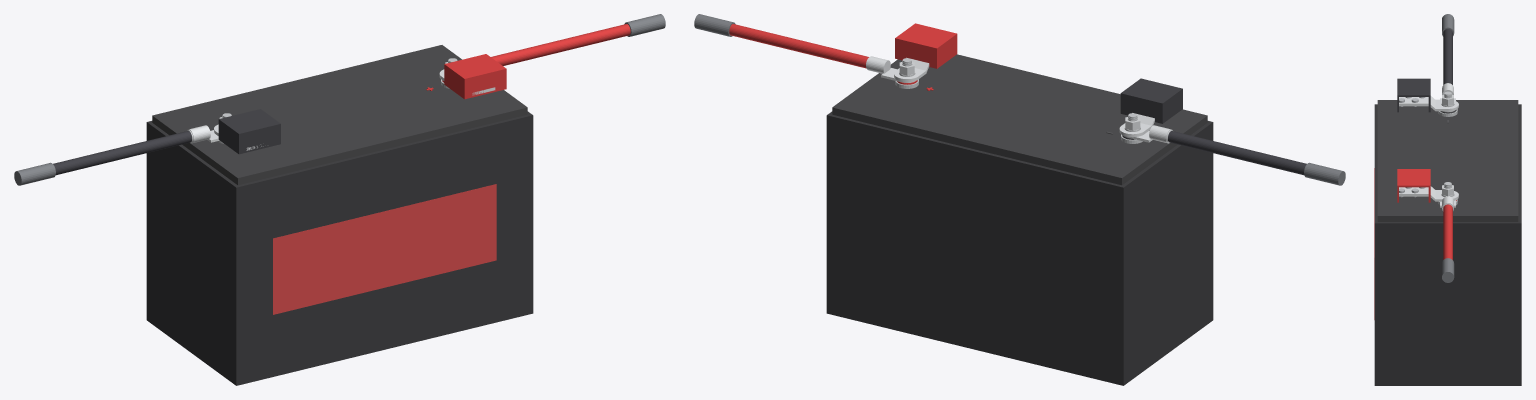
Rendered from odyssey-full-stack.glb.
3 views of the same model, side by side, from view 1: azimuth 30°, elevation 25°; view 2: azimuth 150°, elevation 25°; view 3: azimuth 270°, elevation 25° (orthographic). The views are drawn at different scales.
Parts seen in each view (by area): view 1: odyssey-odp-agm31/case, odyssey-odp-agm31/lid, odyssey-odp-agm31/label, blueseas-2340-neg/cover, blueseas-2340-pos/cover, lug-38-neg/cable_2awg, lug-38-pos/cable_2awg, lug-38-neg/joint_2awg, lug-38-pos/joint_2awg; view 2: odyssey-odp-agm31/case, odyssey-odp-agm31/lid, blueseas-2340-neg/cover, blueseas-2340-pos/cover, lug-38-pos/cable_2awg, lug-38-neg/cable_2awg, lug-38-neg/joint_2awg, lug-38-pos/joint_2awg; view 3: odyssey-odp-agm31/case, odyssey-odp-agm31/lid, blueseas-2340-neg/cover, blueseas-2340-pos/cover, lug-38-neg/cable_2awg, lug-38-pos/cable_2awg, blueseas-2340-pos/bus, blueseas-2340-neg/bus, lug-38-pos/joint_2awg, lug-38-neg/joint_2awg, odyssey-odp-agm31/label, lug-38-pos/lug_2awg (+2 smaller).
Boxes of the visible parts, bbox=[...] form: odyssey-odp-agm31/case: bbox=[146, 111, 533, 385]; odyssey-odp-agm31/lid: bbox=[152, 45, 527, 185]; odyssey-odp-agm31/label: bbox=[273, 184, 496, 314]; blueseas-2340-neg/cover: bbox=[218, 109, 280, 154]; blueseas-2340-pos/cover: bbox=[444, 54, 506, 99]; lug-38-neg/cable_2awg: bbox=[53, 131, 191, 175]; lug-38-pos/cable_2awg: bbox=[491, 24, 630, 65]; lug-38-neg/joint_2awg: bbox=[14, 162, 55, 185]; lug-38-pos/joint_2awg: bbox=[624, 14, 665, 36]; odyssey-odp-agm31/case: bbox=[826, 111, 1213, 385]; odyssey-odp-agm31/lid: bbox=[832, 54, 1207, 185]; blueseas-2340-neg/cover: bbox=[1120, 78, 1182, 123]; blueseas-2340-pos/cover: bbox=[895, 23, 957, 68]; lug-38-pos/cable_2awg: bbox=[729, 24, 868, 68]; lug-38-neg/cable_2awg: bbox=[1168, 131, 1306, 175]; lug-38-neg/joint_2awg: bbox=[1304, 162, 1345, 185]; lug-38-pos/joint_2awg: bbox=[694, 14, 735, 36]; odyssey-odp-agm31/case: bbox=[1374, 104, 1521, 385]; odyssey-odp-agm31/lid: bbox=[1377, 100, 1518, 221]; blueseas-2340-neg/cover: bbox=[1397, 78, 1430, 112]; blueseas-2340-pos/cover: bbox=[1397, 169, 1430, 202]; lug-38-neg/cable_2awg: bbox=[1443, 29, 1452, 84]; lug-38-pos/cable_2awg: bbox=[1443, 204, 1452, 259]; blueseas-2340-pos/bus: bbox=[1399, 186, 1440, 201]; blueseas-2340-neg/bus: bbox=[1399, 96, 1440, 111]; lug-38-pos/joint_2awg: bbox=[1442, 258, 1454, 282]; lug-38-neg/joint_2awg: bbox=[1442, 14, 1454, 36]; odyssey-odp-agm31/label: bbox=[1374, 168, 1374, 319]; lug-38-pos/lug_2awg: bbox=[1440, 196, 1455, 211].
Size of the model in its own units: 0.7165 by 0.2528 by 0.1728.
